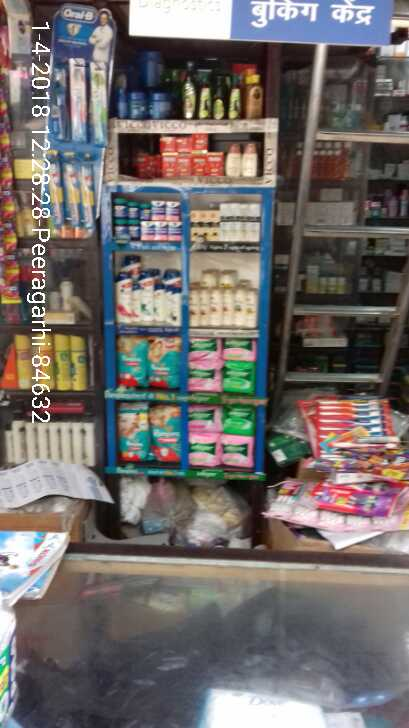oralcare: (36, 6, 114, 238)
vicks: (113, 195, 186, 237)
